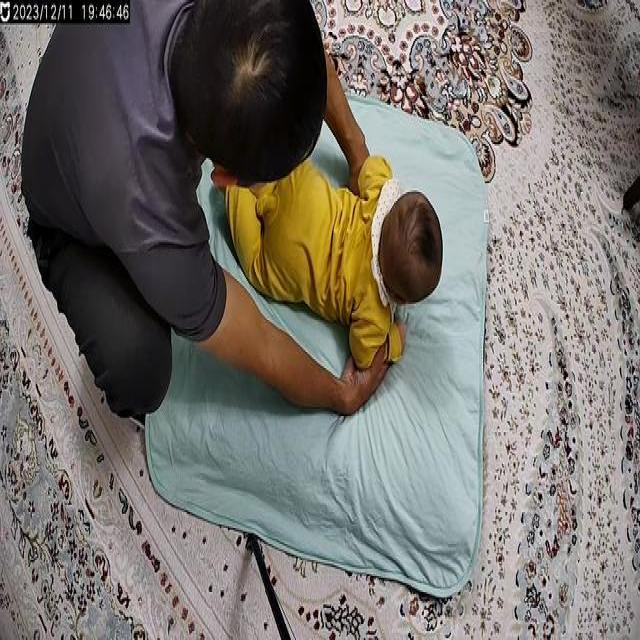baby: (224, 138, 446, 370)
